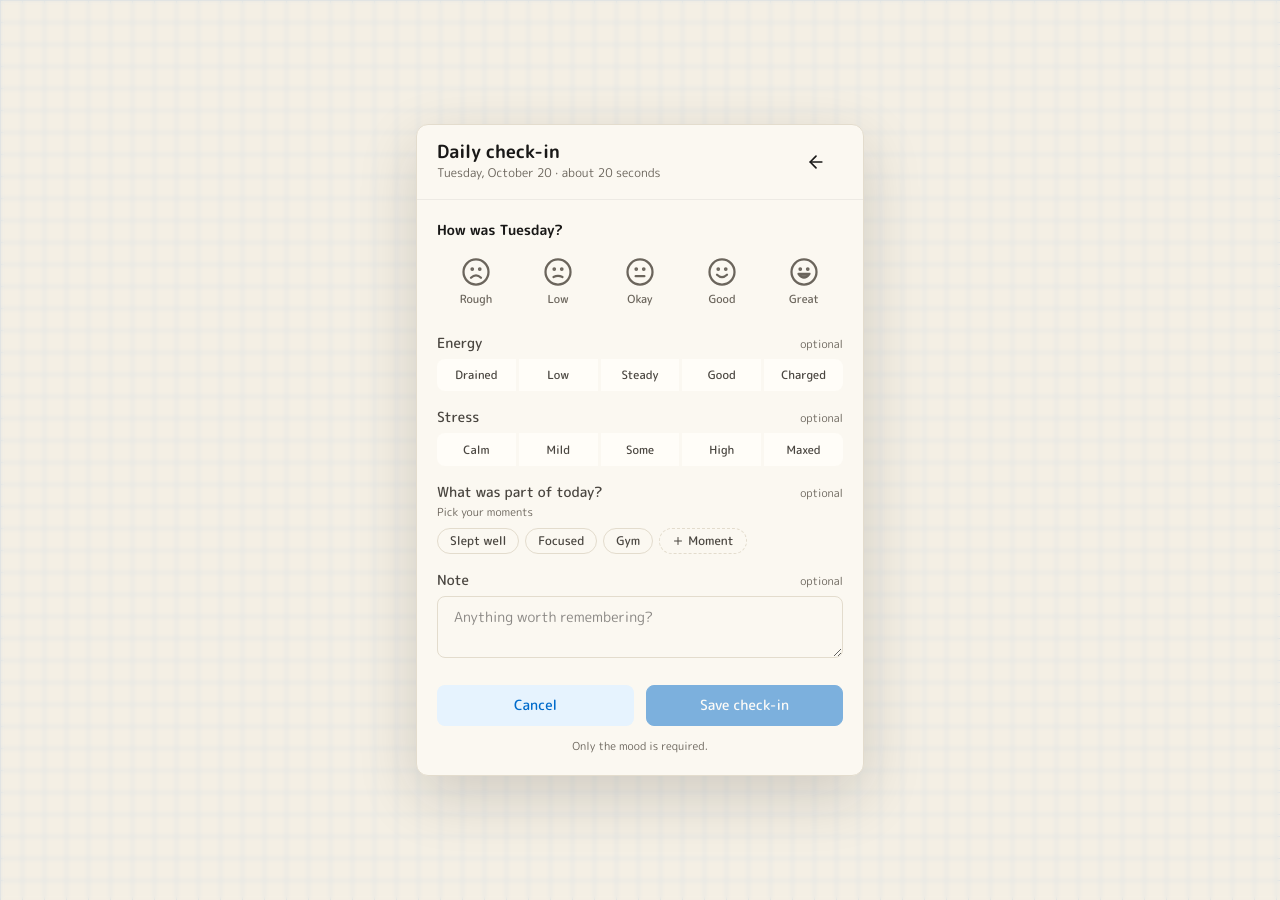
MoodCheckinModal › shows the error and stays open when saving fails
The image size is (1280, 900).
Step 1. Click the radio button labelled "Okay" → (640, 282), box [601, 248, 679, 317]
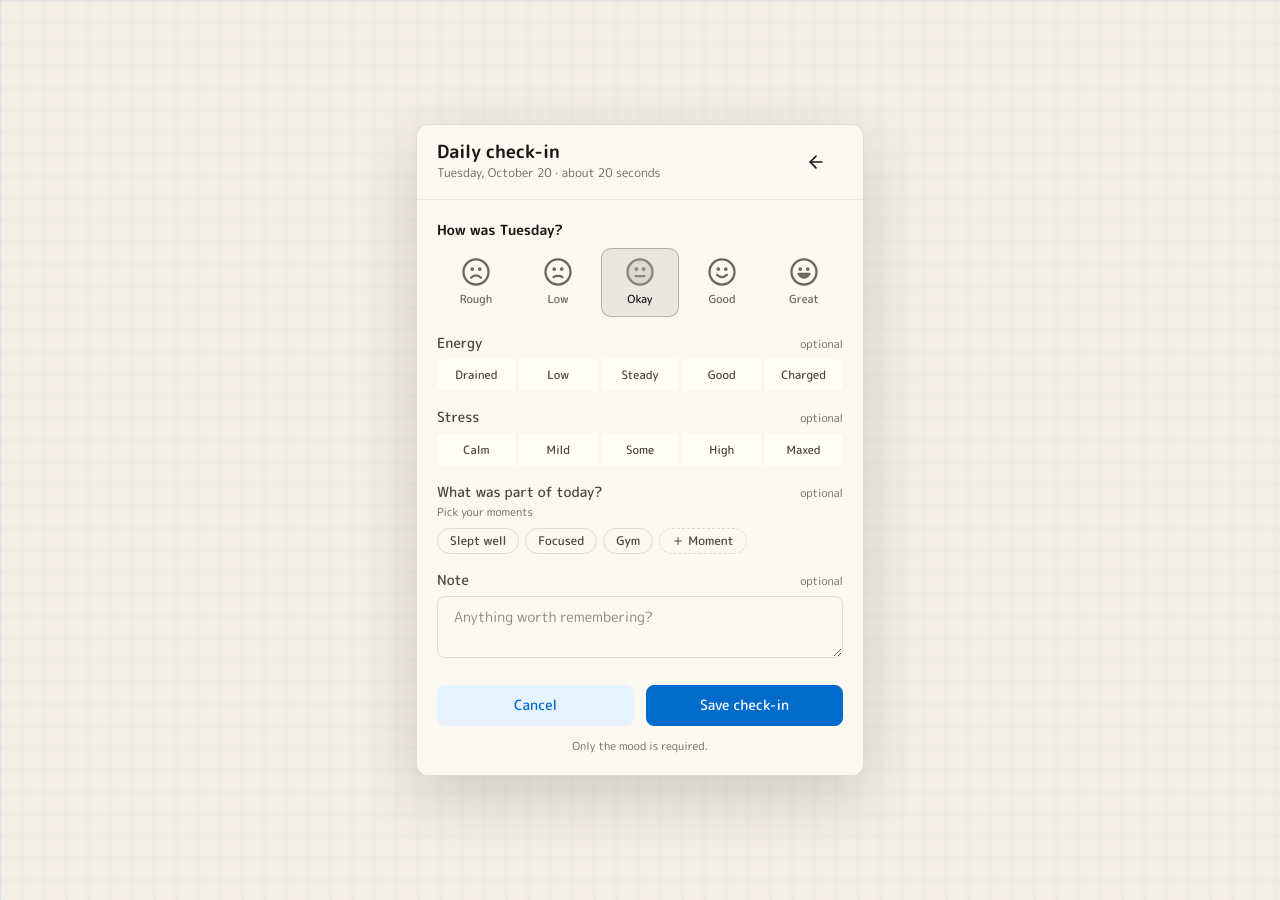
Step 2. Click the button "Save check-in" → (744, 706), box [646, 686, 843, 726]
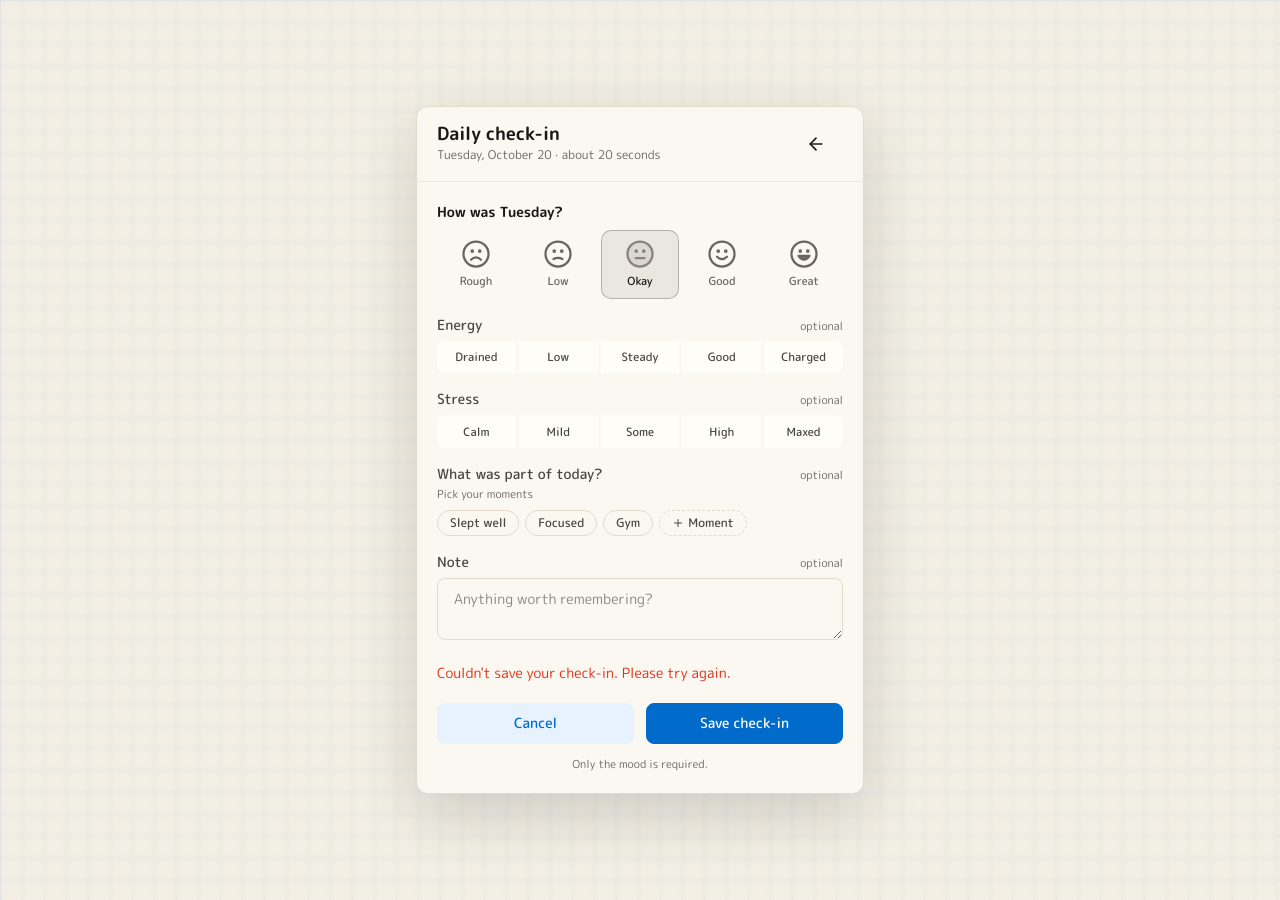
Now the button "Save check-in" is enabled, box [646, 704, 843, 744]
Now the message "Couldn't save your check-in. Please try again." is shown, box [437, 664, 731, 682]
